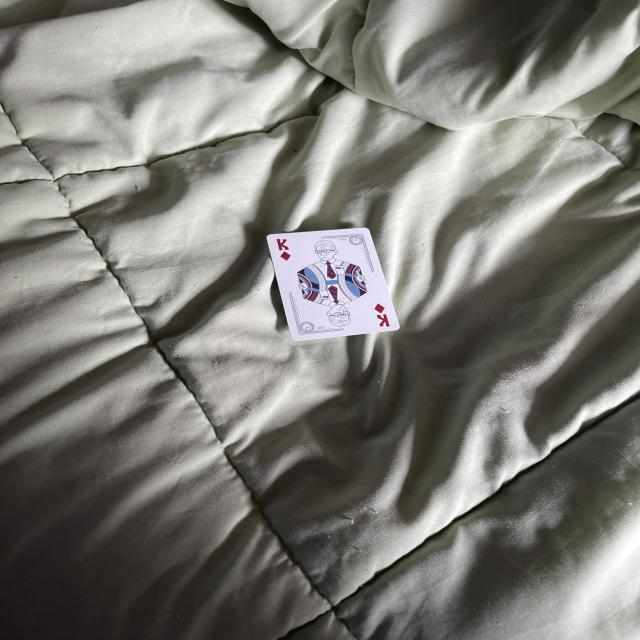King of diamonds: (267, 229, 399, 341)
